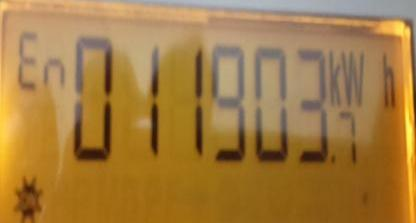.: (327, 51, 405, 108)
0: (330, 154, 339, 165)
1: (73, 36, 114, 164), (252, 47, 291, 165)
2: (146, 41, 165, 164), (190, 44, 207, 158)
4: (297, 48, 329, 166)
8: (337, 112, 363, 168)
:: (210, 45, 249, 163)
